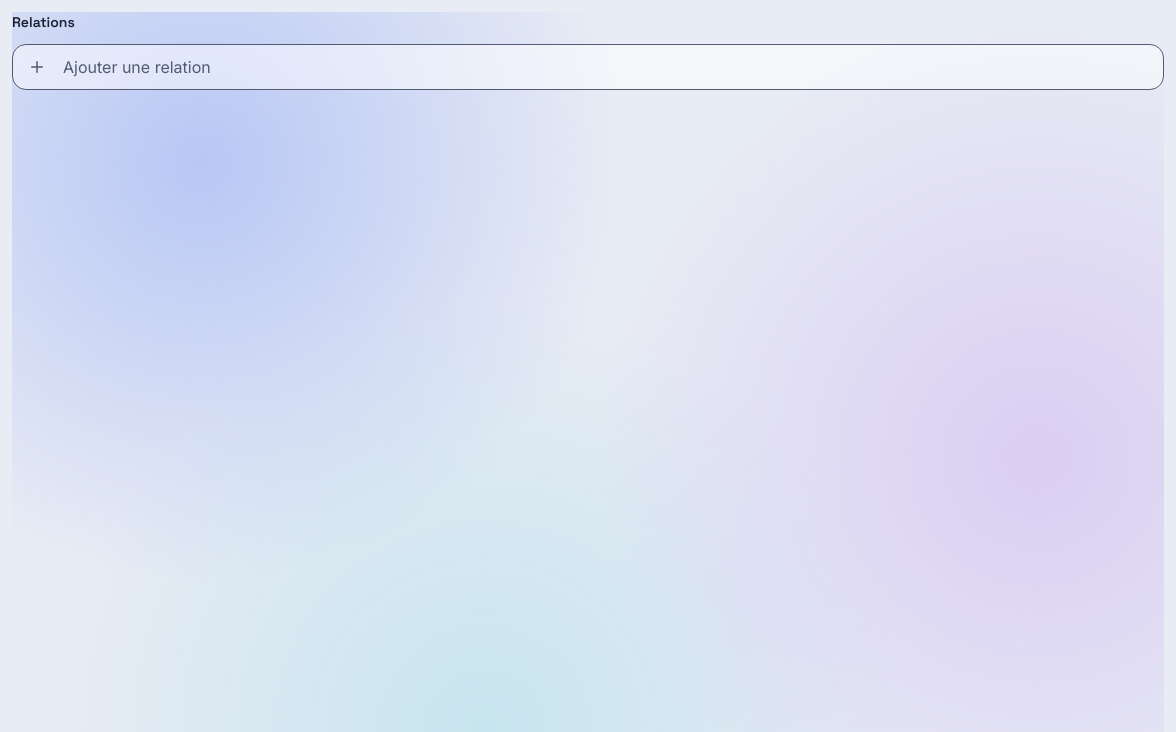
Test case: section « Relations » du détail › refus relation_conflict traduit sous le champ
Click the button "Ajouter une relation" at [137, 67], box 12,44 -> 1164,90
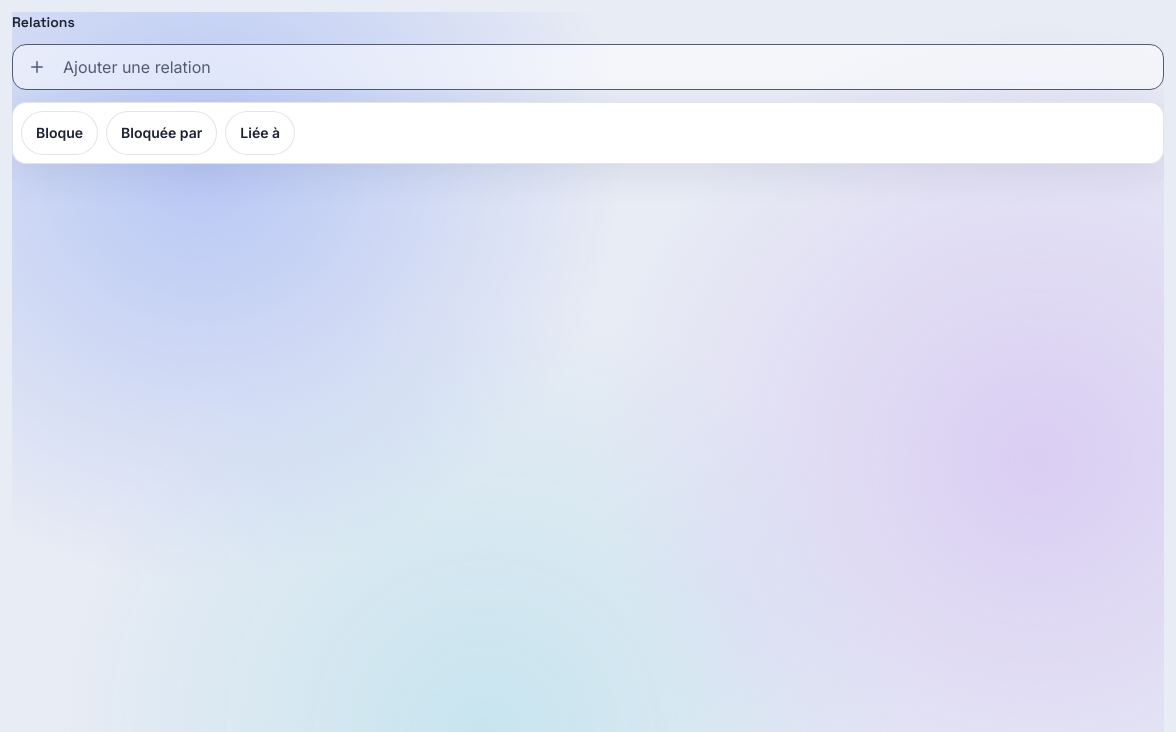
Click the button "Bloque" at [60, 133], box 21,111 -> 98,155
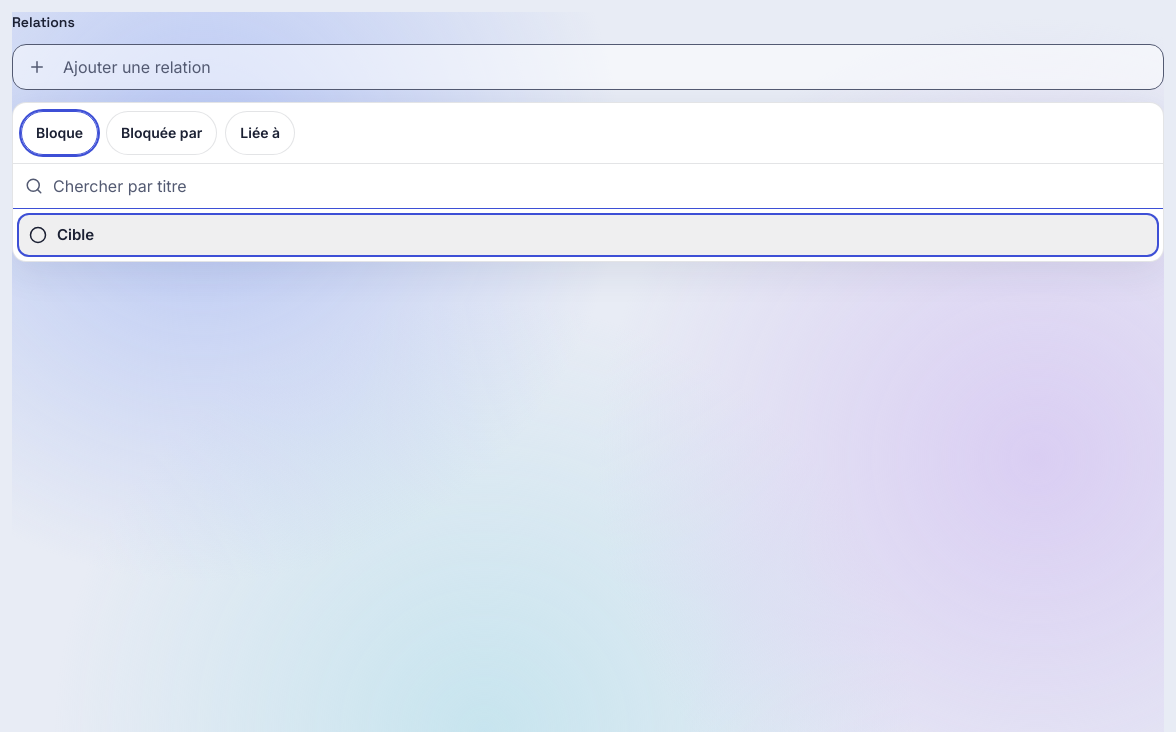
Click the option "Cible" at [76, 235], box 17,213 -> 1159,257
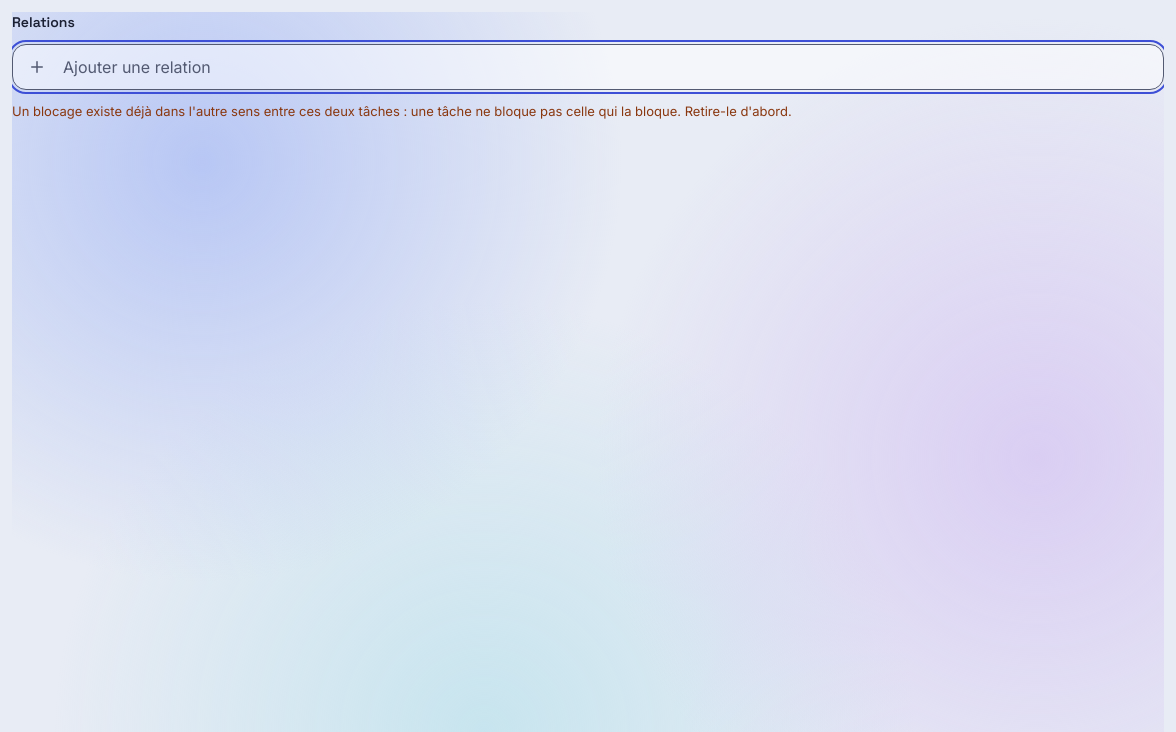
Expected: the message shows "Un blocage existe déjà dans l'autre sens entre ces deux tâches : une tâche ne bloque pas celle qui la bloque. Retire-le d'abord.", 12,103 -> 792,119
